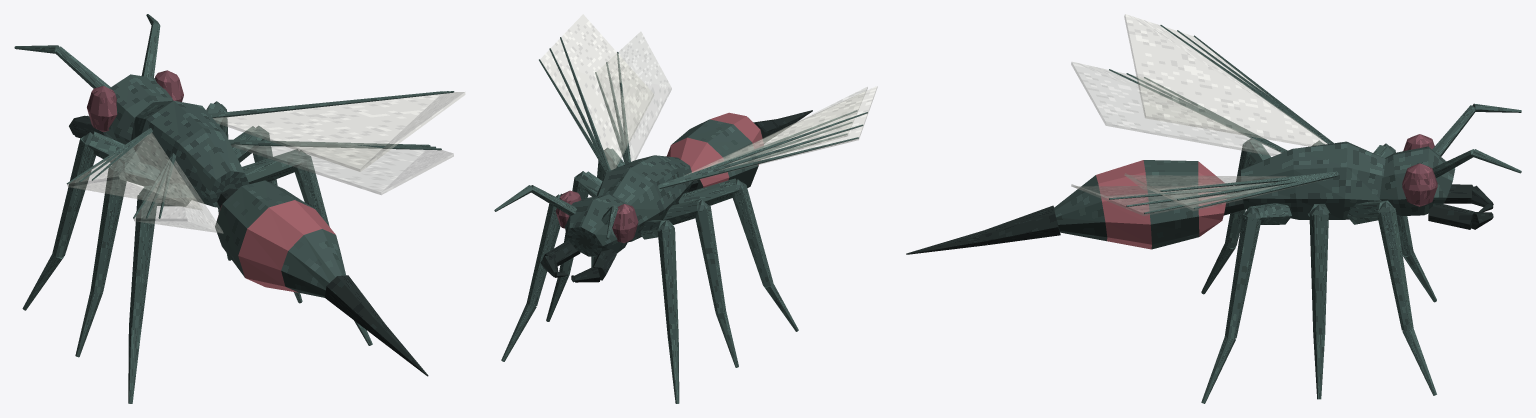
File: mon_dermatik.glb
3 renders of one model, left to right at view 1: azimuth 30°, elevation 25°; view 2: azimuth 150°, elevation 25°; view 3: azimuth 270°, elevation 25°, orthographic. The views are drawn at different scales.
Visible parts, largest first — view 1: closed_body, glazing; view 2: closed_body, glazing; view 3: closed_body, glazing.
Boxes of the visible parts, left/top/right/bottom form: closed_body: left=14, top=14, right=454, bottom=403; glazing: left=67, top=92, right=465, bottom=233; closed_body: left=494, top=37, right=867, bottom=403; glazing: left=540, top=14, right=877, bottom=183; closed_body: left=906, top=25, right=1521, bottom=403; glazing: left=1071, top=14, right=1327, bottom=215.
Bounding box in the file's own units: 0.9915 × 0.6826 × 1.49.
2 materials, 2 textured.
